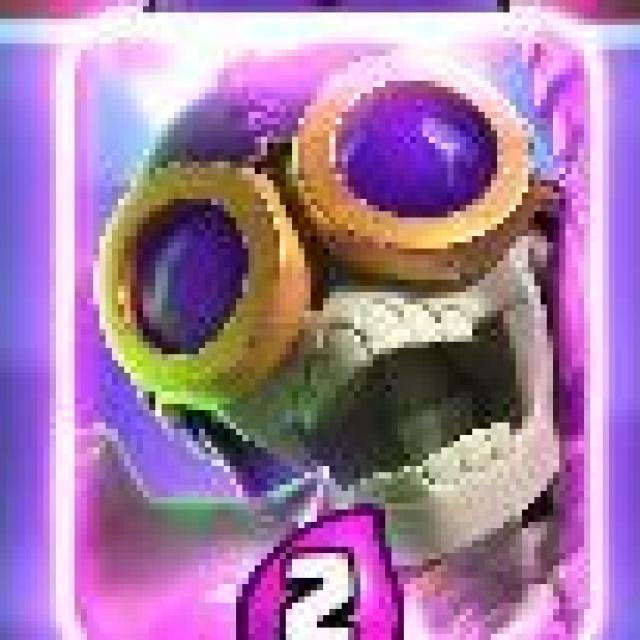Evolved_Bomber: (58, 14, 608, 640)
